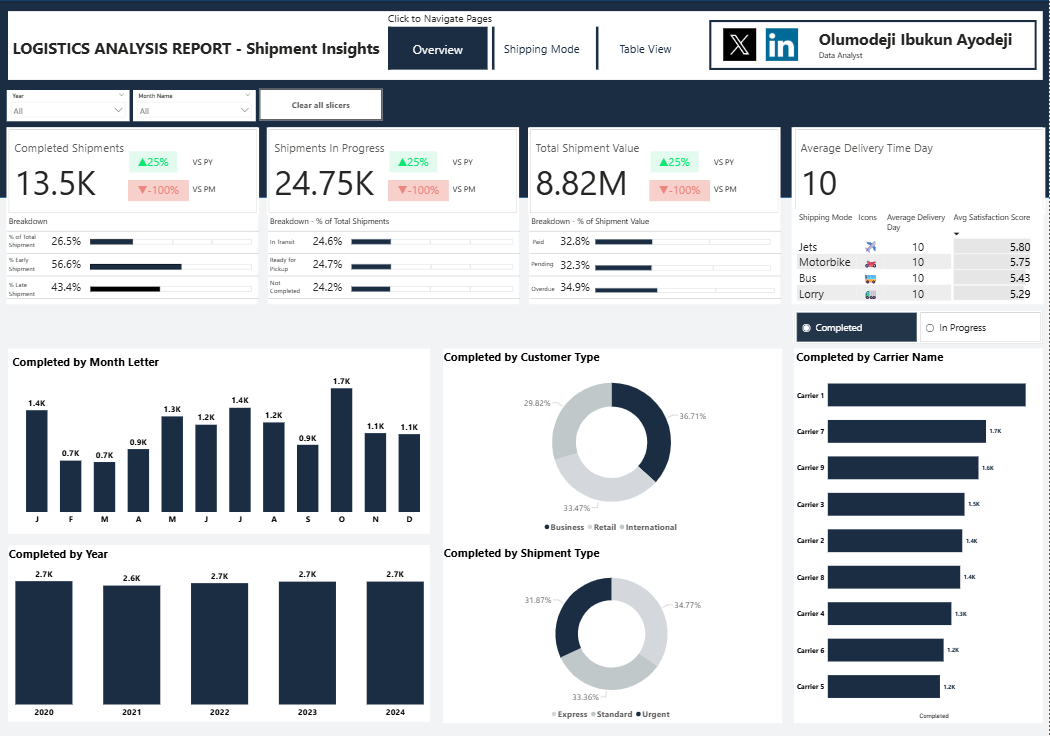

The dashboard page shown, as its layout file describes it:
{"tool":"powerbi","page":{"name":"Overview","canvas":[2500,1750],"ordinal":0},"visuals":[{"type":"shape","box":[0,0,2500,470],"z":0},{"type":"image","box":[1685,62.5,157.5,87.5],"z":0,"group":"g15"},{"type":"cardVisual","title":"KPI","fields":{"Data":["_Shipment.Average Delivery Day"]},"box":[1890,302,600.4,208.1],"z":0,"group":"g10"},{"type":"cardVisual","title":"KPI","fields":{"Data":["_Shipment.S_Completed"]},"box":[20.8,303.2,600.4,208.1],"z":0,"group":"g7"},{"type":"cardVisual","title":"KPI","fields":{"Data":["_Shipment.S_In Progress"]},"box":[638,304,600.4,208.1],"z":0,"group":"g8"},{"type":"cardVisual","title":"KPI","fields":{"Data":["_Shipment.Shipment Value"]},"box":[1260,304,600.4,208.1],"z":0,"group":"g9"},{"type":"card","fields":{"Values":["_Growth Rate.YOY S_Completed"]},"box":[311.3,361.2,114,50.5],"z":0,"group":"g1"},{"type":"card","fields":{"Values":["_Growth Rate.YOY S_Completed"]},"box":[928.5,362,114,50.5],"z":0,"group":"g2"},{"type":"card","fields":{"Values":["_Growth Rate.YOY Shipment_Value"]},"box":[1550.5,362,114,50.5],"z":0,"group":"g3"},{"type":"card","fields":{"Values":["_Growth Rate.MOM S_Completed"]},"box":[308.3,427.8,145,50],"z":0,"group":"g4"},{"type":"card","fields":{"Values":["_Growth Rate.MOM S_In Progress"]},"box":[925.5,428.6,145,50],"z":0,"group":"g5"},{"type":"card","fields":{"Values":["_Growth Rate.MOM Shipment Value"]},"box":[1547.5,428.6,145,50],"z":0,"group":"g6"},{"type":"textbox","box":[20,508.2,130,40],"z":0,"group":"g11"},{"type":"textbox","box":[642.3,508.2,440,40],"z":0,"group":"g12"},{"type":"textbox","box":[1263.7,508.2,440,40],"z":0,"group":"g13"},{"type":"image","box":[1795,62.5,137.5,87.5],"z":1000,"group":"g15"},{"type":"shape","box":[20,303.3,596.7,420],"z":1000},{"type":"group","id":"g1","title":"S_PY","box":[311.3,361.2,283.7,73.9],"z":1000,"group":"g7"},{"type":"group","id":"g2","title":"S_PY","box":[928.5,362,283.7,73.9],"z":1000,"group":"g8"},{"type":"group","id":"g3","title":"S_PY","box":[1550.5,362,283.7,73.9],"z":1000,"group":"g9"},{"type":"textbox","box":[458.3,370.1,136.7,65],"z":1000,"group":"g1"},{"type":"textbox","box":[1075.5,370.9,136.7,65],"z":1000,"group":"g2"},{"type":"textbox","box":[1697.5,370.9,136.7,65],"z":1000,"group":"g3"},{"type":"textbox","box":[456.6,431.1,136.7,65],"z":1000,"group":"g4"},{"type":"textbox","box":[1073.8,431.9,136.7,65],"z":1000,"group":"g5"},{"type":"textbox","box":[1695.8,431.9,136.7,65],"z":1000,"group":"g6"},{"type":"shape","box":[20,541.5,600,18.3],"z":1000,"group":"g11"},{"type":"shape","box":[641.7,541.5,600,18.3],"z":1000,"group":"g12"},{"type":"shape","box":[1263.1,541.5,600,18.3],"z":1000,"group":"g13"},{"type":"textbox","box":[1947.5,62.5,520,97.5],"z":2000,"group":"g15"},{"type":"shape","box":[641.1,303.3,596.7,420],"z":2000},{"type":"group","id":"g4","title":"S_PM","box":[308.3,427.8,285,68.3],"z":2000,"group":"g7"},{"type":"group","id":"g5","title":"S_PM","box":[925.5,428.6,285,68.3],"z":2000,"group":"g8"},{"type":"group","id":"g6","title":"S_PM","box":[1547.5,428.6,285,68.3],"z":2000,"group":"g9"},{"type":"shape","box":[20,594.9,600,16.7],"z":2000,"group":"g11"},{"type":"shape","box":[641.7,594.9,600,16.7],"z":2000,"group":"g12"},{"type":"shape","box":[1263.1,594.9,600,16.7],"z":2000,"group":"g13"},{"type":"shape","box":[1262.2,303.3,596.7,420],"z":3000},{"type":"shape","box":[20,648.2,600,16.7],"z":3000,"group":"g11"},{"type":"shape","box":[641.7,648.2,600,16.7],"z":3000,"group":"g12"},{"type":"shape","box":[1263.1,648.2,600,16.7],"z":3000,"group":"g13"},{"type":"shape","box":[1886.7,303.3,596.7,420],"z":4000},{"type":"shape","box":[20,701.5,600,16.7],"z":4000,"group":"g11"},{"type":"shape","box":[641.7,701.5,600,16.7],"z":4000,"group":"g12"},{"type":"shape","box":[1263.1,701.5,600,16.7],"z":4000,"group":"g13"},{"type":"shape","box":[23.3,26.7,2460,163.3],"z":5000},{"type":"textbox","box":[20,548.2,111.7,56.7],"z":5000,"group":"g11"},{"type":"textbox","box":[642.3,558.2,111.7,46.7],"z":5000,"group":"g12"},{"type":"textbox","box":[1264.4,559.3,111.4,47.1],"z":5000,"group":"g13"},{"type":"textbox","box":[20,603.2,111.7,56.7],"z":6000,"group":"g11"},{"type":"textbox","box":[641.7,603.2,111.7,56.7],"z":6000,"group":"g12"},{"type":"textbox","box":[1263,612.1,111.4,47.1],"z":6000,"group":"g13"},{"type":"shape","box":[1890,736.7,593.3,80],"z":6000},{"type":"textbox","box":[642.3,656.5,111.7,61.7],"z":7000,"group":"g12"},{"type":"textbox","box":[20,661.5,111.7,56.7],"z":7000,"group":"g11"},{"type":"textbox","box":[1262.9,670.7,112.9,50],"z":7000,"group":"g13"},{"type":"shape","box":[1893.3,830,590,890],"z":7000},{"type":"card","fields":{"Values":["_Payment.% Paid"]},"box":[1320.1,546.4,105.7,52.9],"z":8000,"group":"g13"},{"type":"card","fields":{"Values":["_Shipment.% Completed"]},"box":[108.3,548.2,105,53.3],"z":8000,"group":"g11"},{"type":"card","fields":{"Values":["_Shipment.% In Transit"]},"box":[730,548.2,105,53.3],"z":8000,"group":"g12"},{"type":"shape","box":[23.3,830,1003.3,440],"z":8000},{"type":"card","fields":{"Values":["_Shipment.% C_Early"]},"box":[108.3,601.5,105,53.3],"z":9000,"group":"g11"},{"type":"card","fields":{"Values":["_Shipment.% Ready for Pickup"]},"box":[730,601.5,105,53.3],"z":9000,"group":"g12"},{"type":"card","fields":{"Values":["_Payment.% Pending"]},"box":[1320.1,603.6,105.7,54.3],"z":9000,"group":"g13"},{"type":"shape","box":[1056.7,830,806.7,890],"z":9000},{"type":"card","fields":{"Values":["_Shipment.% C_Late"]},"box":[108.3,656.5,105,53.3],"z":10000,"group":"g11"},{"type":"card","fields":{"Values":["_Shipment.% Not Completed"]},"box":[730,656.5,105,53.3],"z":10000,"group":"g12"},{"type":"card","fields":{"Values":["_Payment.% Overdue"]},"box":[1320.1,657.9,105.7,52.9],"z":10000,"group":"g13"},{"type":"shape","box":[23.3,1296.7,1003.3,420],"z":10000},{"type":"group","id":"g7","title":"Completed","box":[20.8,303.2,600.4,208.1],"z":11000},{"type":"hundredPercentStackedBarChart","fields":{"Y":["_Payment.% Paid","_Payment.% Pending","_Payment.% Overdue"]},"box":[1414.4,537.9,427.1,67.1],"z":11000,"group":"g13"},{"type":"hundredPercentStackedBarChart","fields":{"Y":["_Shipment.% Completed","_Shipment.% In Transit","_Shipment.% Not Completed","_Shipment.% Ready for Pickup"]},"box":[213.3,538.2,395,66.7],"z":11000,"group":"g11"},{"type":"hundredPercentStackedBarChart","fields":{"Y":["_Shipment.% In Transit","_Shipment.% Not Completed","_Shipment.% Ready for Pickup","_Shipment.% Completed"]},"box":[835,538.2,395,66.7],"z":11000,"group":"g12"},{"type":"group","id":"g8","title":"In Progress","box":[638,304,602,210],"z":12000},{"type":"hundredPercentStackedBarChart","fields":{"Y":["_Shipment.% C_Early","_Shipment.% C_Late"]},"box":[213.3,598.2,395,66.7],"z":12000,"group":"g11"},{"type":"hundredPercentStackedBarChart","fields":{"Y":["_Shipment.% Ready for Pickup","_Shipment.% In Transit","_Shipment.% Not Completed","_Shipment.% Completed"]},"box":[835,598.2,395,66.7],"z":12000,"group":"g12"},{"type":"hundredPercentStackedBarChart","fields":{"Y":["_Payment.% Pending","_Payment.% Overdue","_Payment.% Paid"]},"box":[1414.4,599.3,428.6,65.7],"z":12000,"group":"g13"},{"type":"group","id":"g9","title":"Value","box":[1260,304,602,210],"z":13000},{"type":"hundredPercentStackedBarChart","fields":{"Y":["_Shipment.% C_Late","_Shipment.% C_Early"]},"box":[213.3,651.5,395,66.7],"z":13000,"group":"g11"},{"type":"hundredPercentStackedBarChart","fields":{"Y":["_Shipment.% Not Completed","_Shipment.% In Transit","_Shipment.% Ready for Pickup","_Shipment.% Completed"]},"box":[835,651.5,395,66.7],"z":13000,"group":"g12"},{"type":"hundredPercentStackedBarChart","fields":{"Y":["_Payment.% Overdue","_Payment.% Pending","_Payment.% Paid"]},"box":[1414.4,657.9,437.1,60],"z":13000,"group":"g13"},{"type":"group","id":"g10","title":"Day","box":[1890,302,600.4,208.1],"z":14000},{"type":"group","id":"g11","title":"C_Breakdown","box":[20,508.2,600,210],"z":15000},{"type":"group","id":"g12","title":"P_Breakdown","box":[641.7,508.2,600,210],"z":16000},{"type":"group","id":"g13","title":"V_Breakdown","box":[1262.9,508.2,600.2,212.5],"z":17000},{"type":"tableEx","fields":{"Values":["DimShippingMode.Shipping Mode","DimShippingMode.Icons","_Shipment.Average Delivery Day","_Shipment.Avg Satisfaction Score"]},"box":[1892.5,497.5,592.5,225],"z":18000},{"type":"advancedSlicerVisual","fields":{"Values":["Parameter.Parameter"]},"box":[1892.5,737.5,590,80],"z":19000},{"type":"clusteredBarChart","fields":{"Y":["_Shipment.S_Completed"],"Category":["DimCarrier.Carrier Name"]},"box":[1894,830,590,886],"z":20000},{"type":"donutChart","fields":{"Y":["_Shipment.S_Completed"],"Category":["DimCustomer.Customer Type"]},"box":[1056,830,808,446],"z":21000},{"type":"donutChart","fields":{"Y":["_Shipment.S_Completed"],"Series":["DimShippment.Shipment Type"]},"box":[1056,1296,808,424],"z":22000},{"type":"clusteredColumnChart","fields":{"Y":["_Shipment.S_Completed"],"Category":["Date Table.Year"]},"box":[20,1297.5,1012.5,417.5],"z":23000},{"type":"clusteredColumnChart","fields":{"Y":["_Shipment.S_Completed"],"Category":["Date Table.Month Letter"]},"box":[30,840,1012.5,417.5],"z":24000},{"type":"textbox","box":[30,82,1062,108],"z":25000},{"type":"pageNavigator","title":"Click to Navigate Pages","box":[927.3,26.7,731.2,139.7],"z":26000},{"type":"shape","box":[1691.2,47.6,778.7,118.9],"z":27000},{"type":"slicer","fields":{"Values":["Date Table.Year"]},"box":[20,214,292,74],"z":28000},{"type":"slicer","fields":{"Values":["Date Table.Month Name"]},"box":[320,214,292,74],"z":29000},{"type":"group","id":"g14","title":"Group 1","box":[1685,62.5,782.5,97.5],"z":30000},{"type":"actionButton","box":[620,212.5,292.5,75],"z":31000},{"type":"group","id":"g15","title":"Profile_Name","box":[1685,62.5,782.5,97.5],"z":31001,"group":"g14"}]}

Visuals, with their boxes in screenshot pixels (x1, y1, x2, y2), scaled from the page's 2500x1750 canvas onto the 1050x736 screenshot:
shape: (left=0, top=0, right=1049, bottom=198)
image: (left=708, top=26, right=774, bottom=63)
"KPI" cardVisual: (left=794, top=127, right=1046, bottom=215)
"KPI" cardVisual: (left=9, top=128, right=261, bottom=215)
"KPI" cardVisual: (left=268, top=128, right=520, bottom=215)
"KPI" cardVisual: (left=529, top=128, right=781, bottom=215)
card - _Growth Rate.YOY S_Completed: (left=131, top=152, right=179, bottom=173)
card - _Growth Rate.YOY S_Completed: (left=390, top=152, right=438, bottom=173)
card - _Growth Rate.YOY Shipment_Value: (left=651, top=152, right=699, bottom=173)
card - _Growth Rate.MOM S_Completed: (left=129, top=180, right=190, bottom=201)
card - _Growth Rate.MOM S_In Progress: (left=389, top=180, right=450, bottom=201)
card - _Growth Rate.MOM Shipment Value: (left=650, top=180, right=711, bottom=201)
textbox: (left=8, top=214, right=63, bottom=231)
textbox: (left=270, top=214, right=455, bottom=231)
textbox: (left=531, top=214, right=716, bottom=231)
image: (left=754, top=26, right=812, bottom=63)
shape: (left=8, top=128, right=259, bottom=304)
"S_PY" group: (left=131, top=152, right=250, bottom=183)
"S_PY" group: (left=390, top=152, right=509, bottom=183)
"S_PY" group: (left=651, top=152, right=770, bottom=183)
textbox: (left=192, top=156, right=250, bottom=183)
textbox: (left=452, top=156, right=509, bottom=183)
textbox: (left=713, top=156, right=770, bottom=183)
textbox: (left=192, top=181, right=249, bottom=209)
textbox: (left=451, top=182, right=508, bottom=209)
textbox: (left=712, top=182, right=770, bottom=209)
shape: (left=8, top=228, right=260, bottom=235)
shape: (left=270, top=228, right=522, bottom=235)
shape: (left=531, top=228, right=783, bottom=235)
textbox: (left=818, top=26, right=1036, bottom=67)
shape: (left=269, top=128, right=520, bottom=304)
"S_PM" group: (left=129, top=180, right=249, bottom=209)
"S_PM" group: (left=389, top=180, right=508, bottom=209)
"S_PM" group: (left=650, top=180, right=770, bottom=209)
shape: (left=8, top=250, right=260, bottom=257)
shape: (left=270, top=250, right=522, bottom=257)
shape: (left=531, top=250, right=783, bottom=257)
shape: (left=530, top=128, right=781, bottom=304)
shape: (left=8, top=273, right=260, bottom=280)
shape: (left=270, top=273, right=522, bottom=280)
shape: (left=531, top=273, right=783, bottom=280)
shape: (left=792, top=128, right=1043, bottom=304)
shape: (left=8, top=295, right=260, bottom=302)
shape: (left=270, top=295, right=522, bottom=302)
shape: (left=531, top=295, right=783, bottom=302)
shape: (left=10, top=11, right=1043, bottom=80)
textbox: (left=8, top=231, right=55, bottom=254)
textbox: (left=270, top=235, right=317, bottom=254)
textbox: (left=531, top=235, right=578, bottom=255)
textbox: (left=8, top=254, right=55, bottom=278)
textbox: (left=270, top=254, right=316, bottom=278)
textbox: (left=530, top=257, right=577, bottom=277)
shape: (left=794, top=310, right=1043, bottom=343)
textbox: (left=270, top=276, right=317, bottom=302)
textbox: (left=8, top=278, right=55, bottom=302)
textbox: (left=530, top=282, right=578, bottom=303)
shape: (left=795, top=349, right=1043, bottom=723)
card - _Payment.% Paid: (left=554, top=230, right=599, bottom=252)
card - _Shipment.% Completed: (left=45, top=231, right=90, bottom=253)
card - _Shipment.% In Transit: (left=307, top=231, right=351, bottom=253)
shape: (left=10, top=349, right=431, bottom=534)
card - _Shipment.% C_Early: (left=45, top=253, right=90, bottom=275)
card - _Shipment.% Ready for Pickup: (left=307, top=253, right=351, bottom=275)
card - _Payment.% Pending: (left=554, top=254, right=599, bottom=277)
shape: (left=444, top=349, right=783, bottom=723)
card - _Shipment.% C_Late: (left=45, top=276, right=90, bottom=299)
card - _Shipment.% Not Completed: (left=307, top=276, right=351, bottom=299)
card - _Payment.% Overdue: (left=554, top=277, right=599, bottom=299)
shape: (left=10, top=545, right=431, bottom=722)
"Completed" group: (left=9, top=128, right=261, bottom=215)
hundredPercentStackedBarChart - _Payment.% Paid x _Payment.% Pending: (left=594, top=226, right=773, bottom=254)
hundredPercentStackedBarChart - _Shipment.% Completed x _Shipment.% In Transit: (left=90, top=226, right=255, bottom=254)
hundredPercentStackedBarChart - _Shipment.% In Transit x _Shipment.% Not Completed: (left=351, top=226, right=517, bottom=254)
"In Progress" group: (left=268, top=128, right=521, bottom=216)
hundredPercentStackedBarChart - _Shipment.% C_Early x _Shipment.% C_Late: (left=90, top=252, right=255, bottom=280)
hundredPercentStackedBarChart - _Shipment.% Ready for Pickup x _Shipment.% In Transit: (left=351, top=252, right=517, bottom=280)
hundredPercentStackedBarChart - _Payment.% Pending x _Payment.% Overdue: (left=594, top=252, right=774, bottom=280)
"Value" group: (left=529, top=128, right=782, bottom=216)
hundredPercentStackedBarChart - _Shipment.% C_Late x _Shipment.% C_Early: (left=90, top=274, right=255, bottom=302)
hundredPercentStackedBarChart - _Shipment.% Not Completed x _Shipment.% In Transit: (left=351, top=274, right=517, bottom=302)
hundredPercentStackedBarChart - _Payment.% Overdue x _Payment.% Pending: (left=594, top=277, right=778, bottom=302)
"Day" group: (left=794, top=127, right=1046, bottom=215)
"C_Breakdown" group: (left=8, top=214, right=260, bottom=302)
"P_Breakdown" group: (left=270, top=214, right=522, bottom=302)
"V_Breakdown" group: (left=530, top=214, right=783, bottom=303)
tableEx - DimShippingMode.Shipping Mode x DimShippingMode.Icons: (left=795, top=209, right=1044, bottom=304)
advancedSlicerVisual - Parameter.Parameter: (left=795, top=310, right=1043, bottom=344)
clusteredBarChart - _Shipment.S_Completed x DimCarrier.Carrier Name: (left=795, top=349, right=1043, bottom=722)
donutChart - _Shipment.S_Completed x DimCustomer.Customer Type: (left=444, top=349, right=783, bottom=537)
donutChart - _Shipment.S_Completed x DimShippment.Shipment Type: (left=444, top=545, right=783, bottom=723)
clusteredColumnChart - _Shipment.S_Completed x Date Table.Year: (left=8, top=546, right=434, bottom=721)
clusteredColumnChart - _Shipment.S_Completed x Date Table.Month Letter: (left=13, top=353, right=438, bottom=529)
textbox: (left=13, top=34, right=459, bottom=80)
"Click to Navigate Pages" pageNavigator: (left=389, top=11, right=697, bottom=70)
shape: (left=710, top=20, right=1037, bottom=70)
slicer - Date Table.Year: (left=8, top=90, right=131, bottom=121)
slicer - Date Table.Month Name: (left=134, top=90, right=257, bottom=121)
"Group 1" group: (left=708, top=26, right=1036, bottom=67)
actionButton: (left=260, top=89, right=383, bottom=121)
"Profile_Name" group: (left=708, top=26, right=1036, bottom=67)
